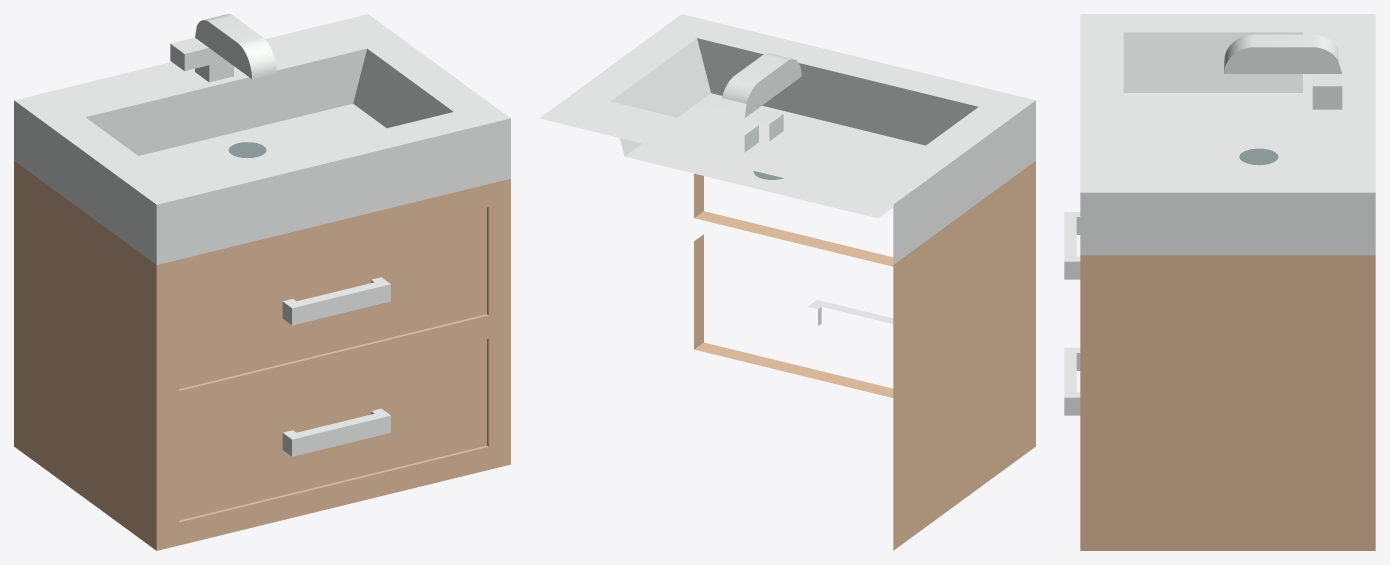
The model's file is lavandino.glb.
3 views of the same model, side by side, from view 1: azimuth 30°, elevation 25°; view 2: azimuth 150°, elevation 25°; view 3: azimuth 270°, elevation 25° (orthographic). The views are drawn at different scales.
Visible parts, largest first — view 1: bathroomCabinetDrawer(Clone); view 2: bathroomCabinetDrawer(Clone); view 3: bathroomCabinetDrawer(Clone).
Boxes of the visible parts, bbox=[...] form: bathroomCabinetDrawer(Clone): bbox=[14, 14, 510, 550]; bathroomCabinetDrawer(Clone): bbox=[539, 14, 1035, 550]; bathroomCabinetDrawer(Clone): bbox=[1064, 14, 1375, 550].
Bounding box in the file's own units: 0.43 × 0.4718 × 0.3163.
